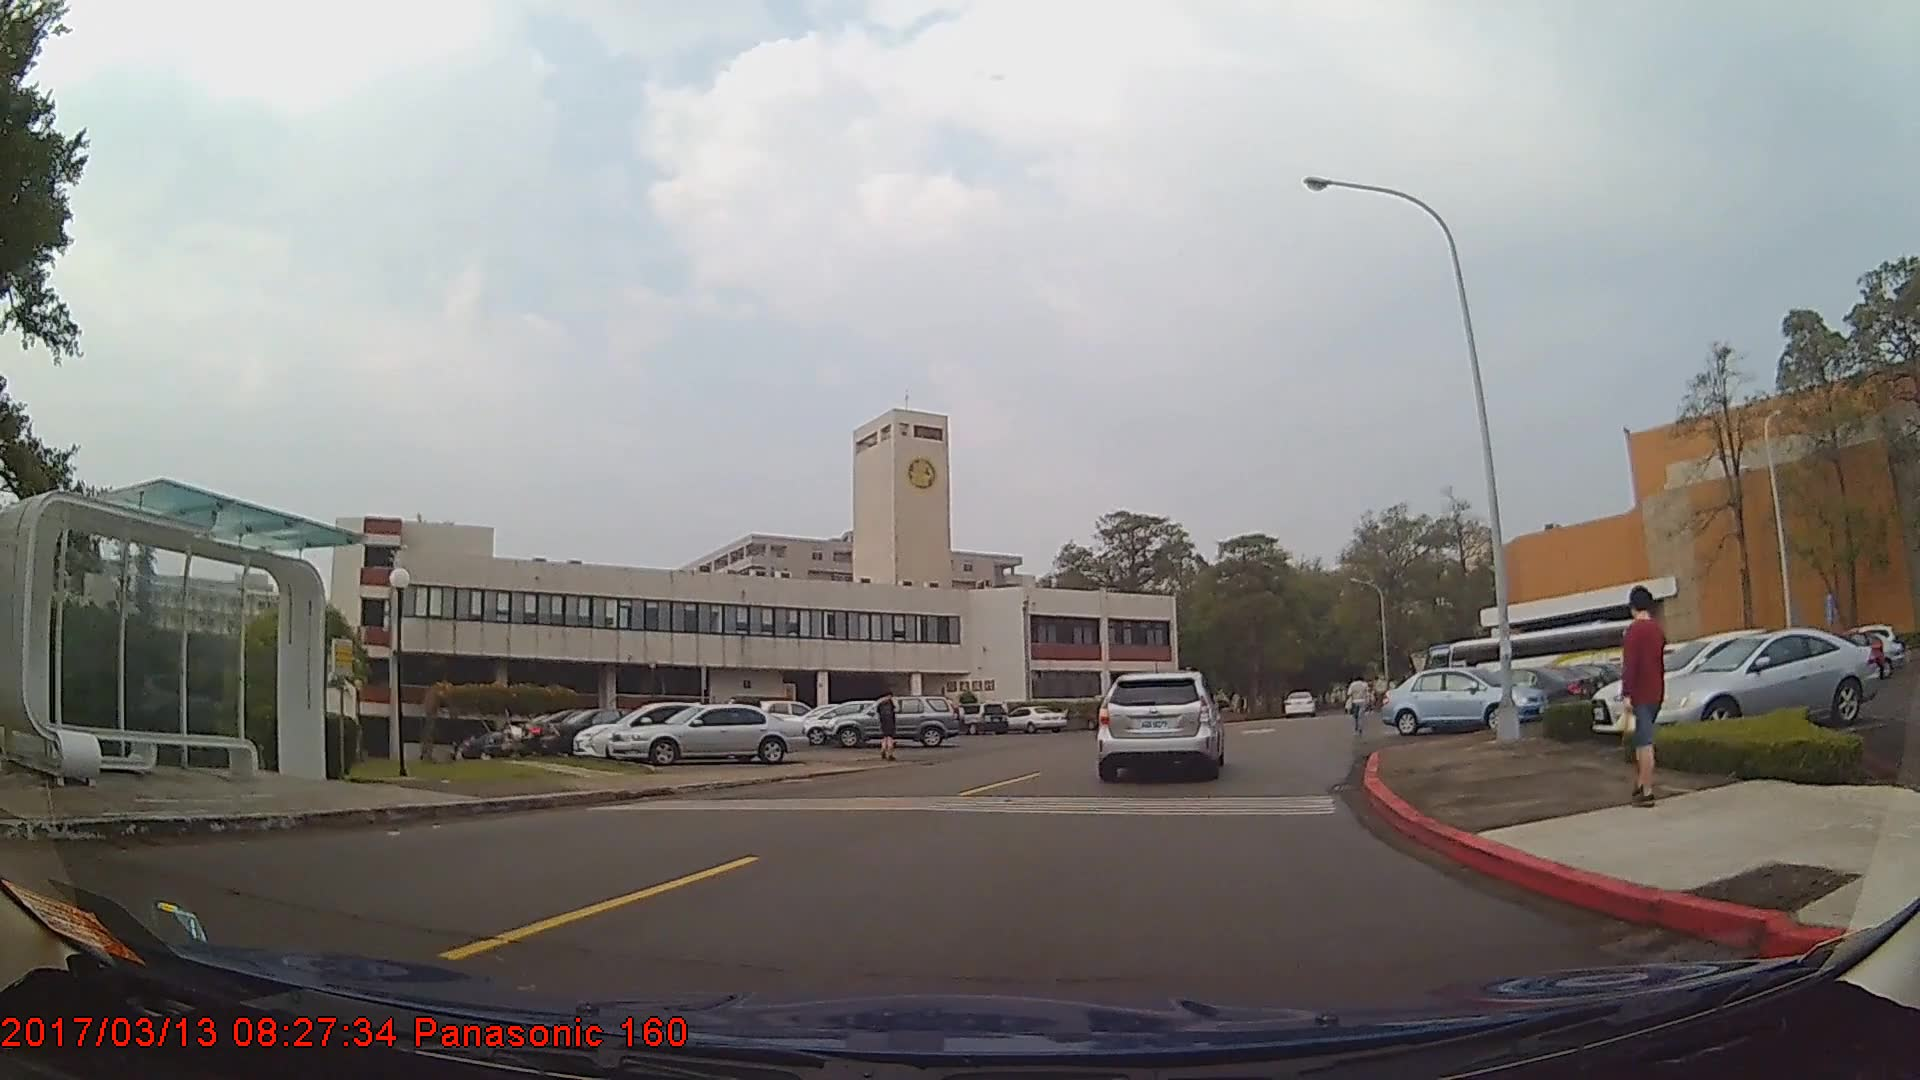pedestrian: (1619, 586, 1673, 809), (875, 689, 902, 762), (1346, 672, 1373, 737)
vehicle: (1589, 630, 1835, 736), (1646, 626, 1881, 733), (1098, 669, 1223, 782), (608, 703, 809, 764), (1376, 666, 1547, 736), (568, 696, 767, 756), (539, 706, 683, 759), (830, 694, 965, 746), (946, 700, 1011, 735), (998, 703, 1066, 734), (1283, 686, 1317, 716)
